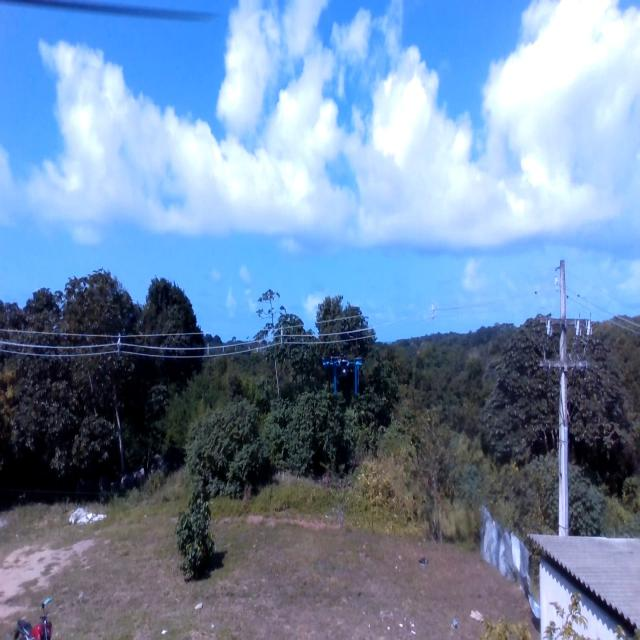-uav-: (319, 344, 365, 400)
